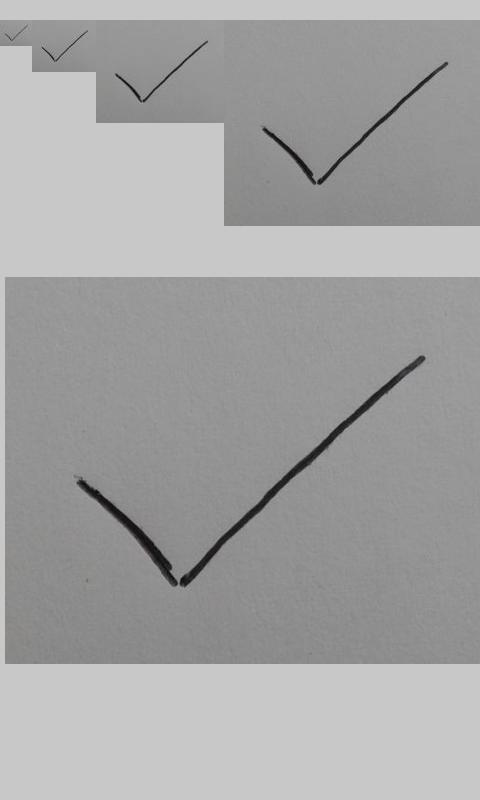check_box: (74, 358, 423, 587), (263, 62, 446, 186), (115, 41, 207, 103), (41, 30, 87, 62), (5, 24, 28, 41)
